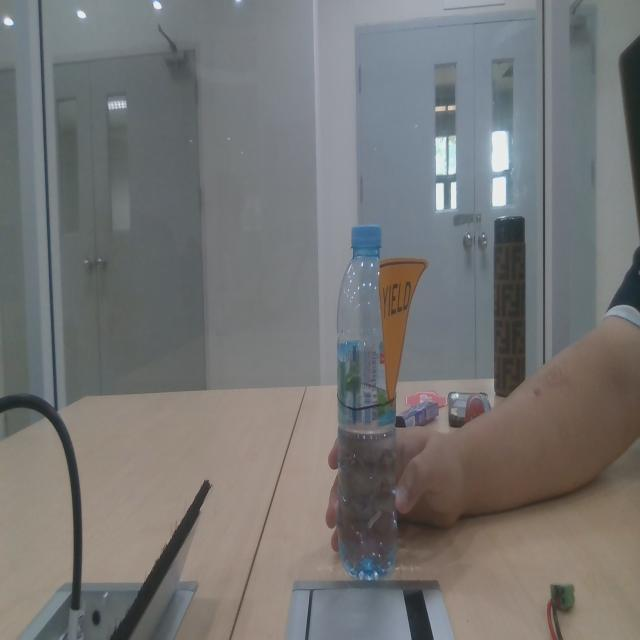Yield: (377, 248, 430, 404)
